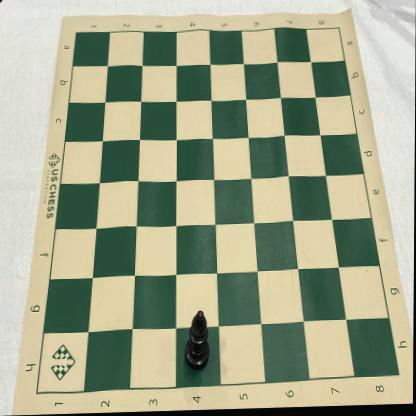black-bishop: (185, 312, 211, 372)
